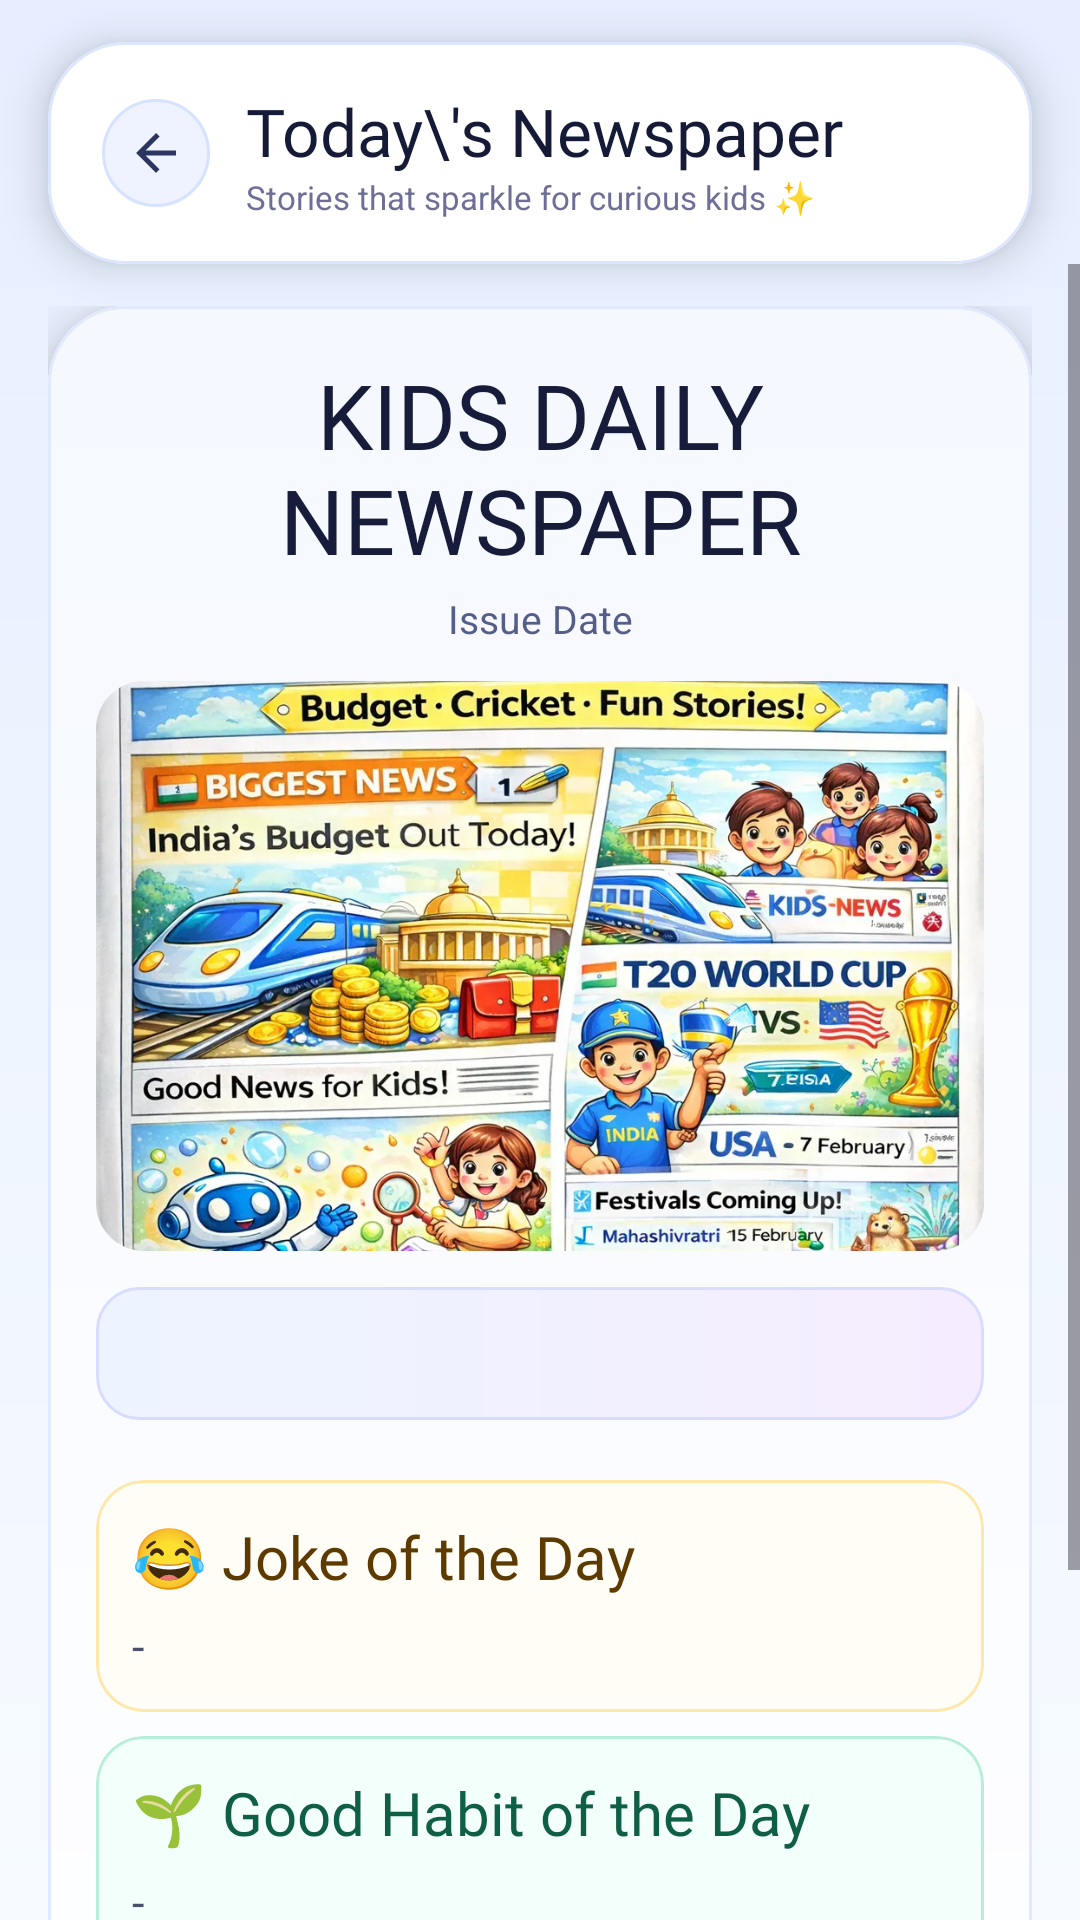

Screen size 1080px x 1920px. Icon name, then its center in pixels as (x=x, y=y):
Back: (x=156, y=153)
